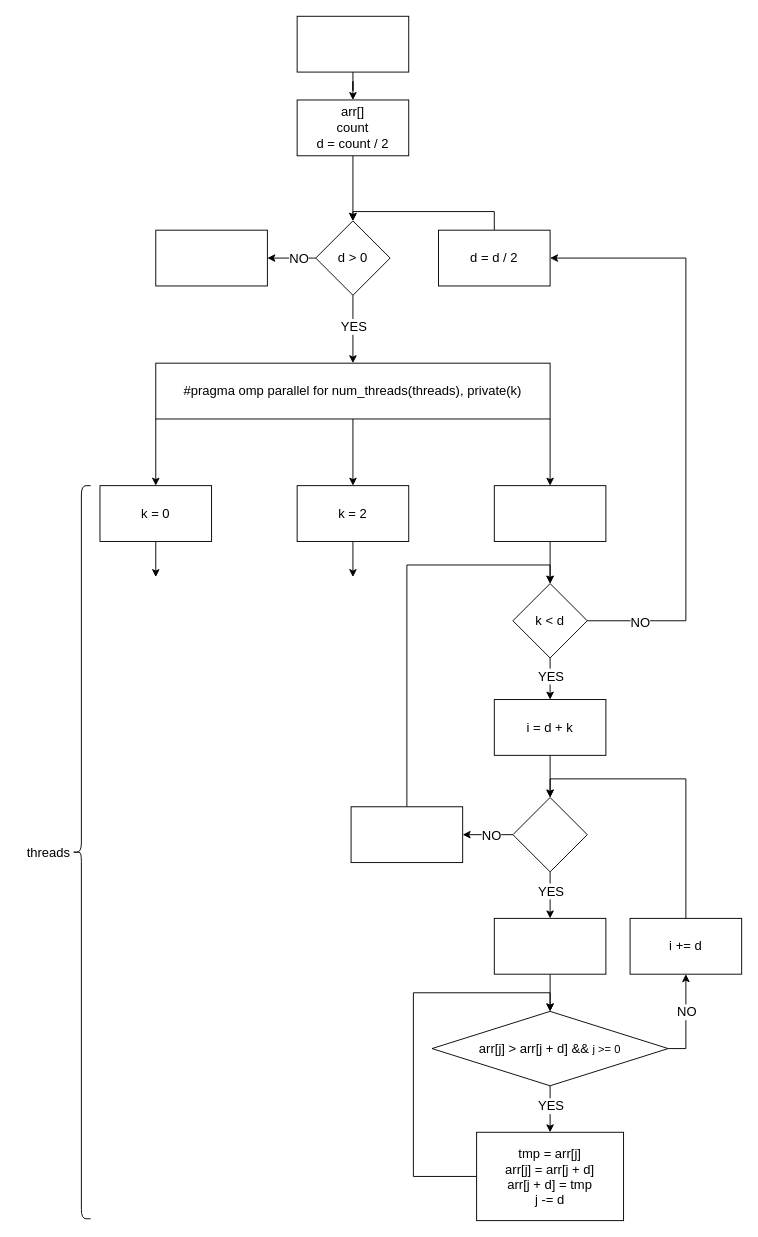
The diagram is 758 pixels wide and 1237 high, and some of its shapes have lost their labels. Each missing label, with the centre of its shape:
"++k" belongs at point (406, 834).
"END" belongs at point (211, 257).
"i < count" belongs at point (549, 834).
"j = i - d" belongs at point (549, 945).
"k = ..." belongs at point (549, 513).
"START" belongs at point (352, 43).
